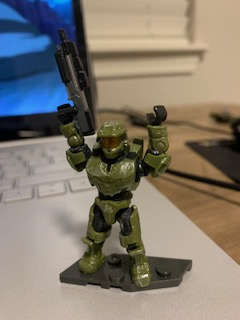chief: (56, 102, 172, 290)
rifle: (53, 28, 97, 139)
spartan: (54, 100, 170, 288)
up: (55, 102, 172, 199)
